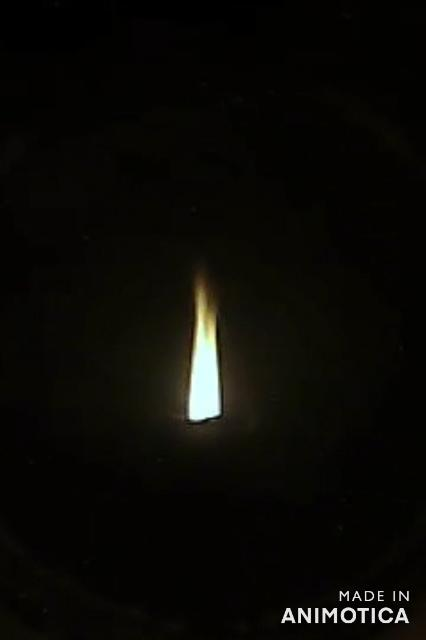burner flame: (184, 274, 224, 424)
